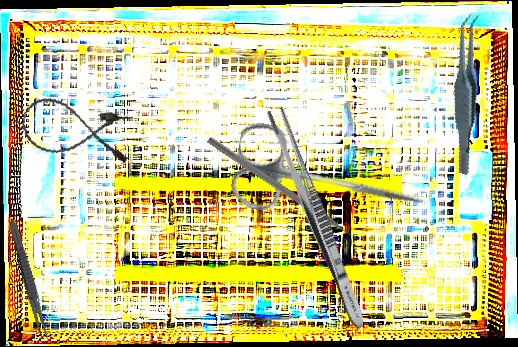Cannula: (16, 93, 137, 168)
Chopper: (201, 136, 365, 255)
Dressing Forceps: (262, 105, 372, 332), (5, 217, 53, 344)
Iris Scissors: (227, 119, 432, 241)
Tissue Forceps: (423, 11, 510, 176)
